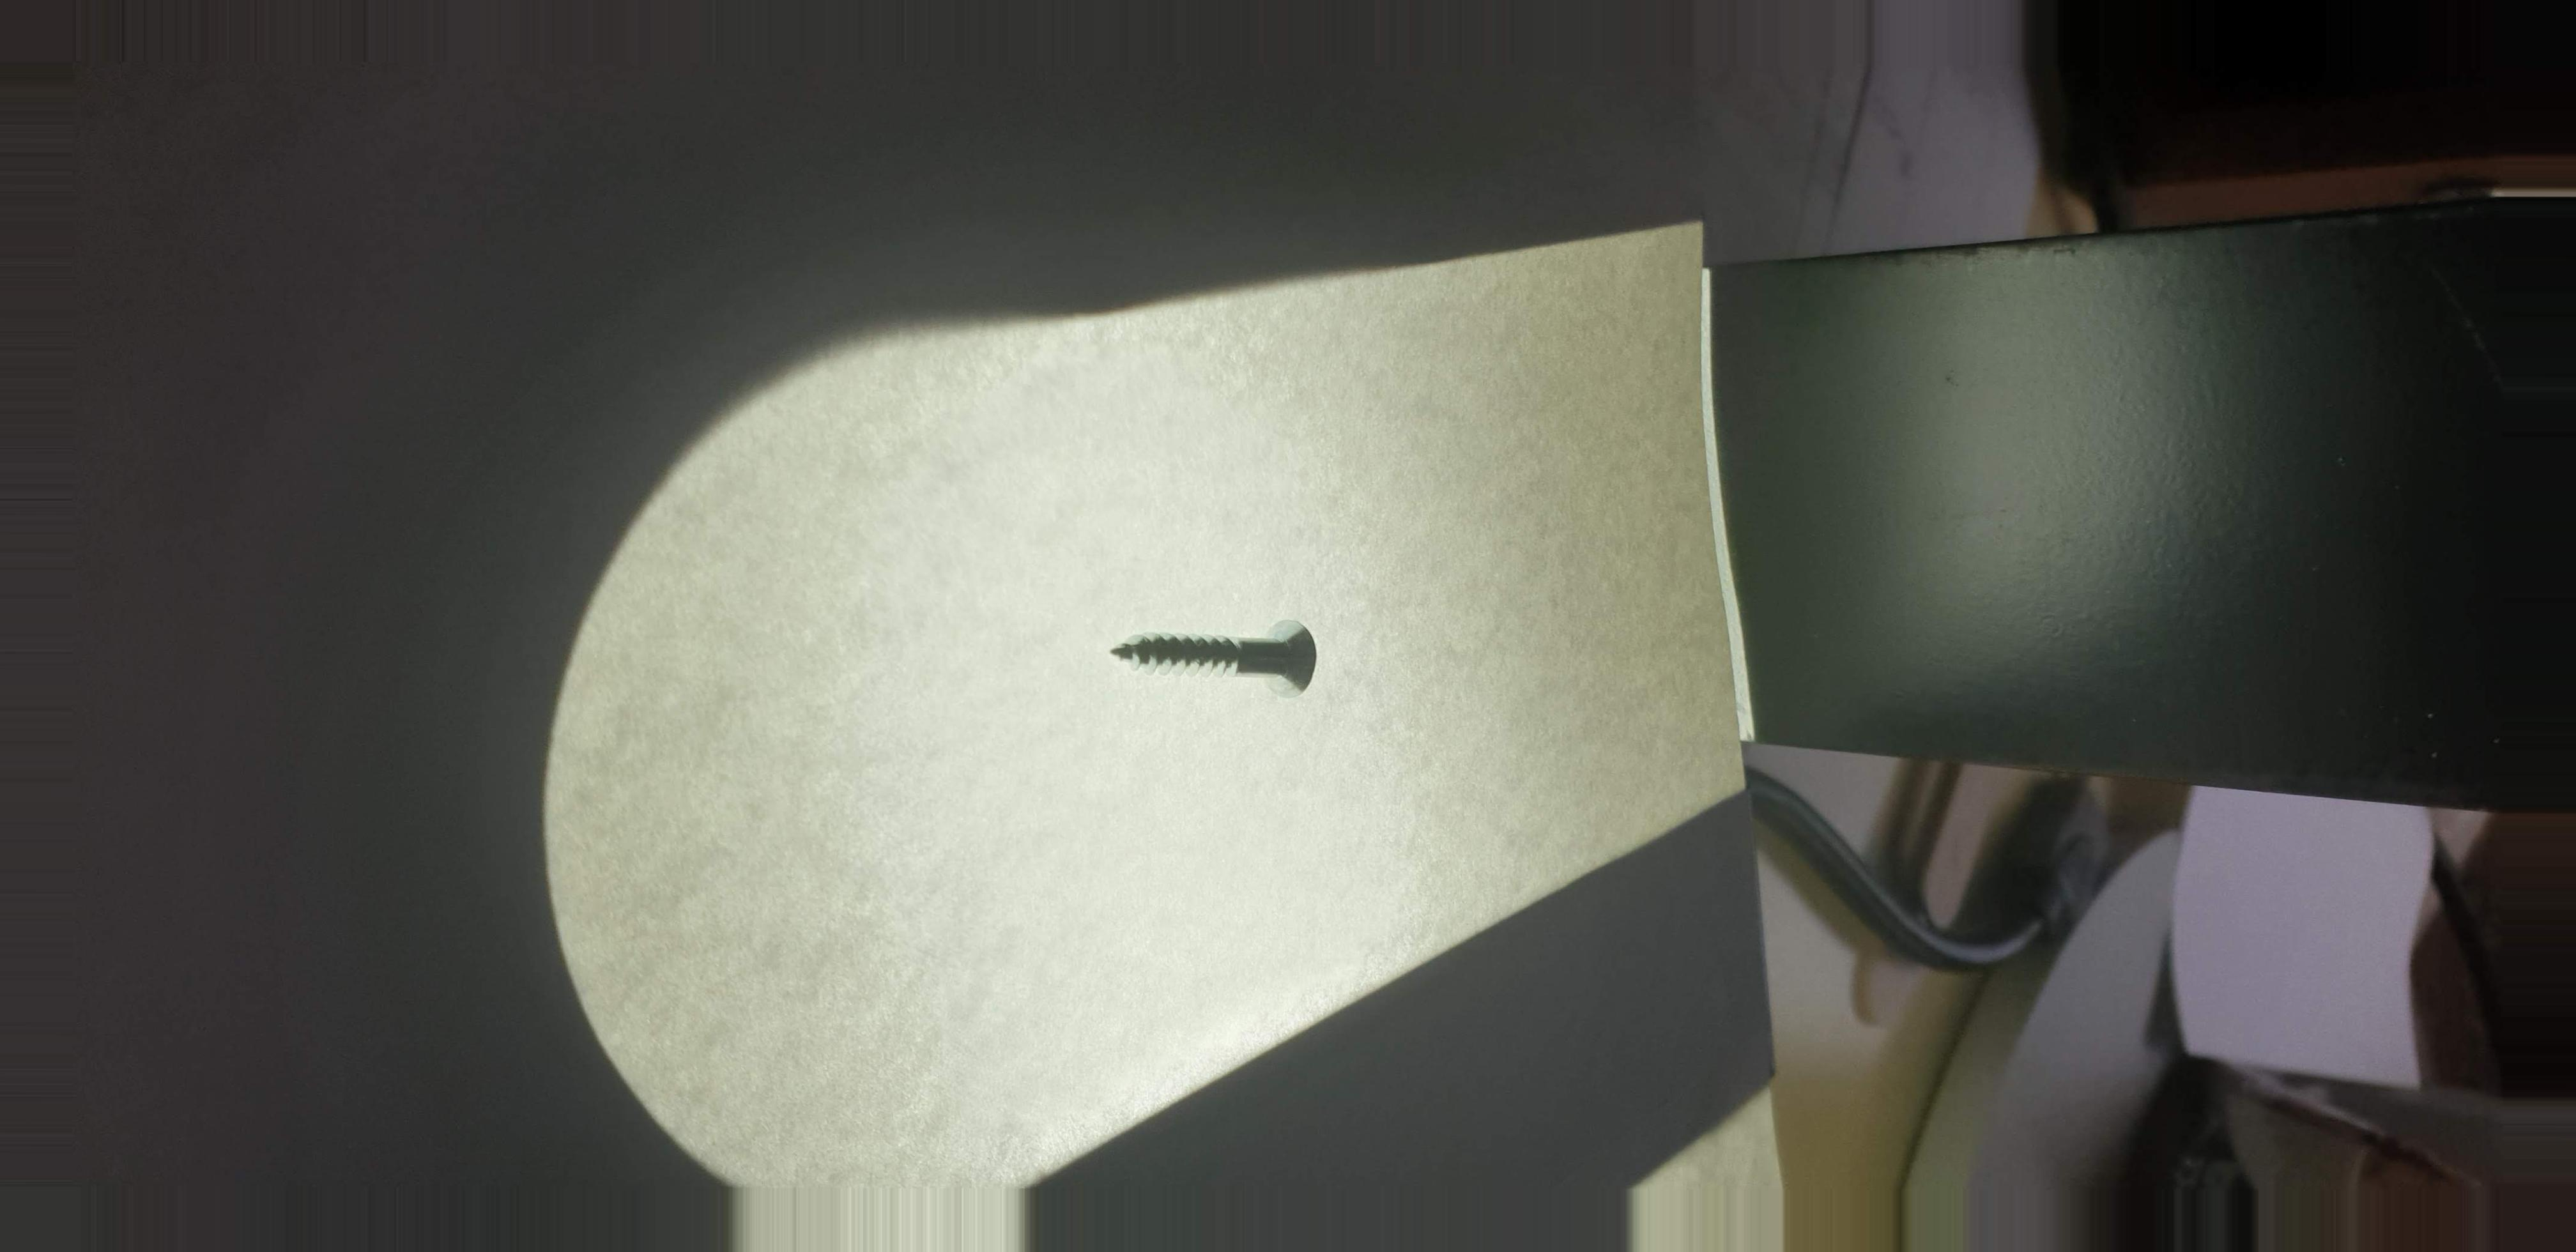S005: (1063, 591, 1373, 733)
